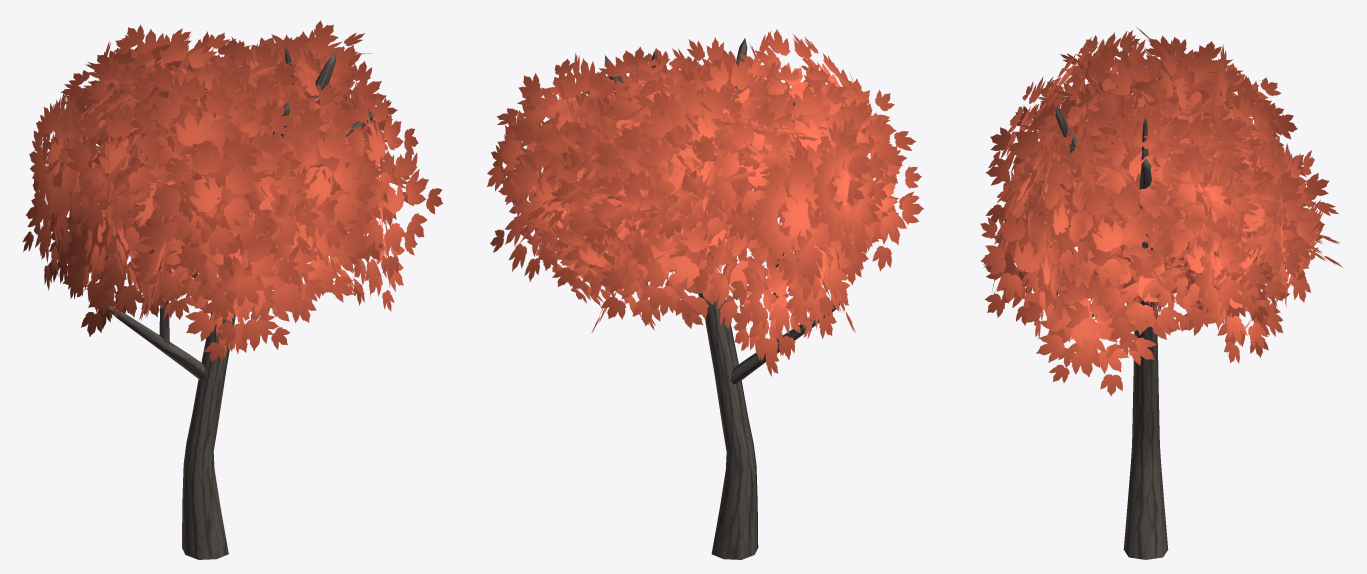
File: prop_sn_maple_tree_4.glb
3 renders of one model, left to right at view 1: azimuth 30°, elevation 25°; view 2: azimuth 150°, elevation 25°; view 3: azimuth 270°, elevation 25°, orthographic. The views are drawn at different scales.
Parts seen in each view (by area): view 1: MapleTree_4; view 2: MapleTree_4; view 3: MapleTree_4.
Part boxes in pixels (box(x1,y1,x2,y2)): MapleTree_4: box(22, 20, 442, 559); MapleTree_4: box(487, 29, 923, 559); MapleTree_4: box(980, 27, 1342, 559).
Bounding box in the file's own units: 2.77 × 3.59 × 2.43.
2 materials, 2 textured.
